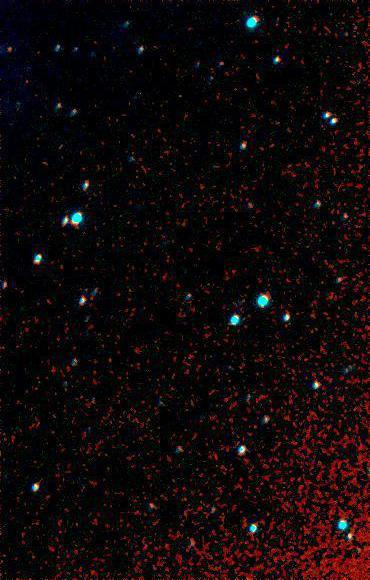star: (0, 35, 28, 65)
